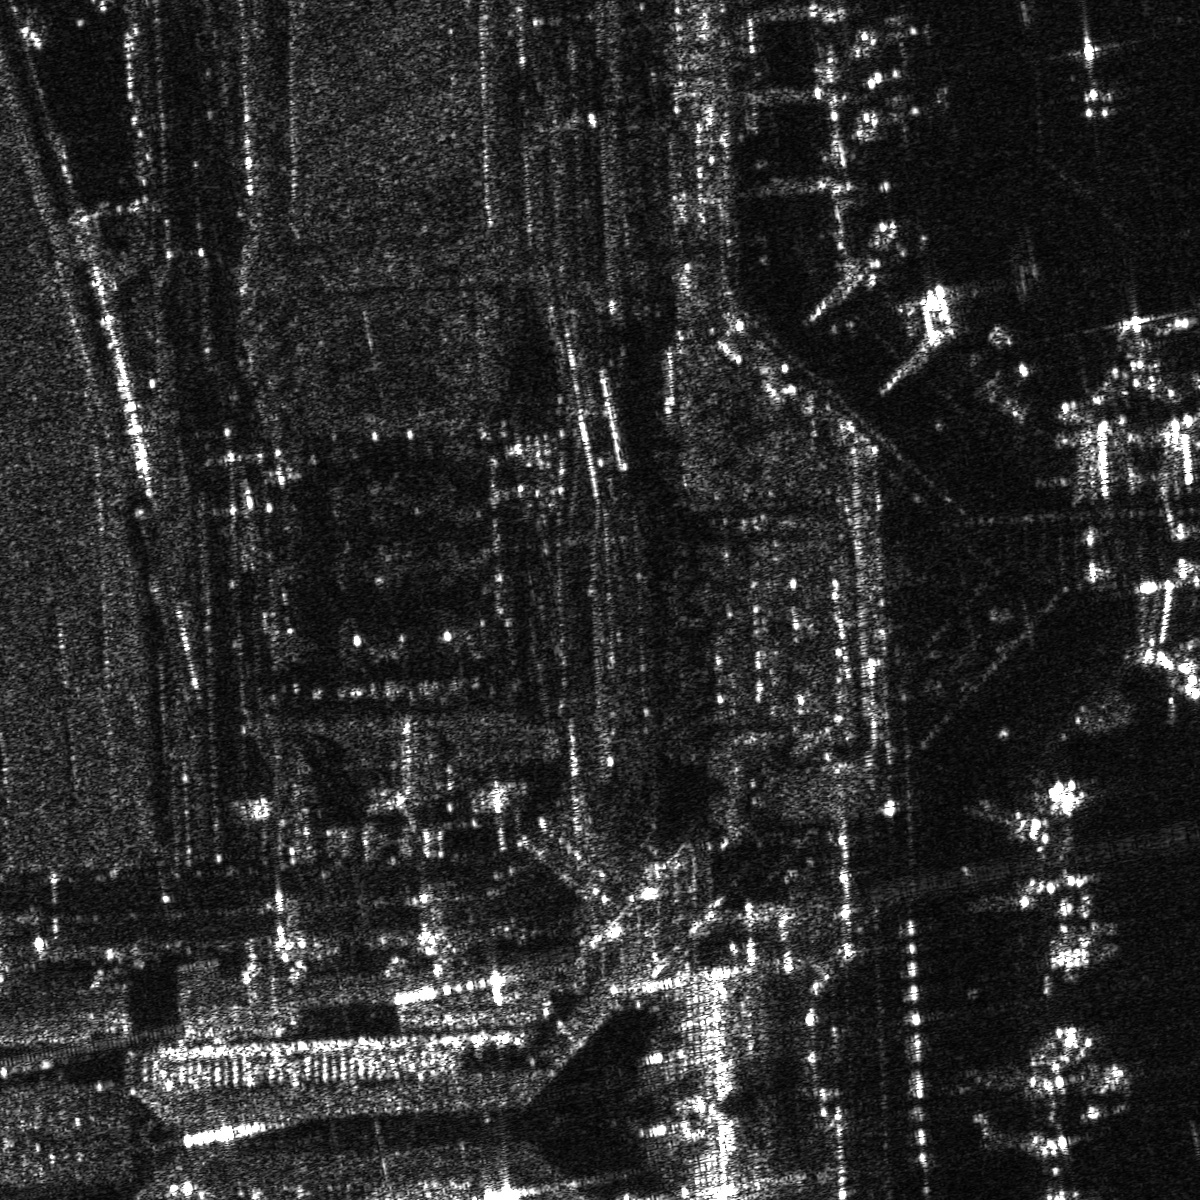A220: (1091, 305, 1170, 405), (856, 74, 955, 147), (843, 3, 938, 69)
Boeing737: (1041, 21, 1137, 133)
